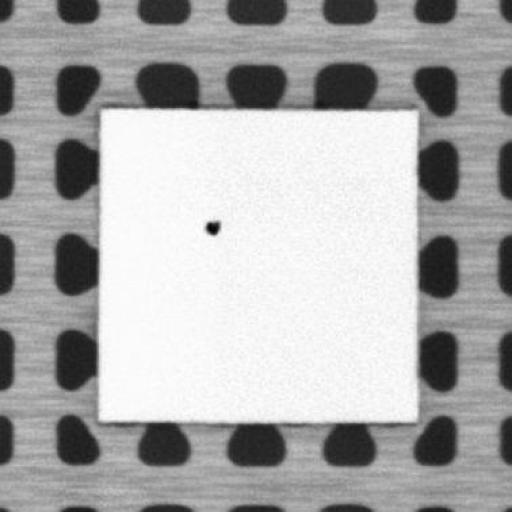DIE_INK: (200, 213, 221, 238)
